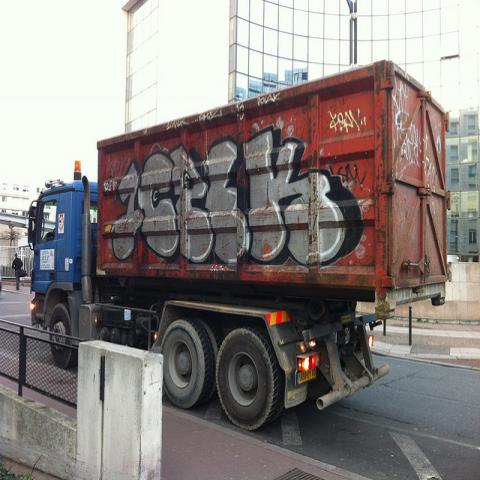truck: (24, 60, 453, 434)
